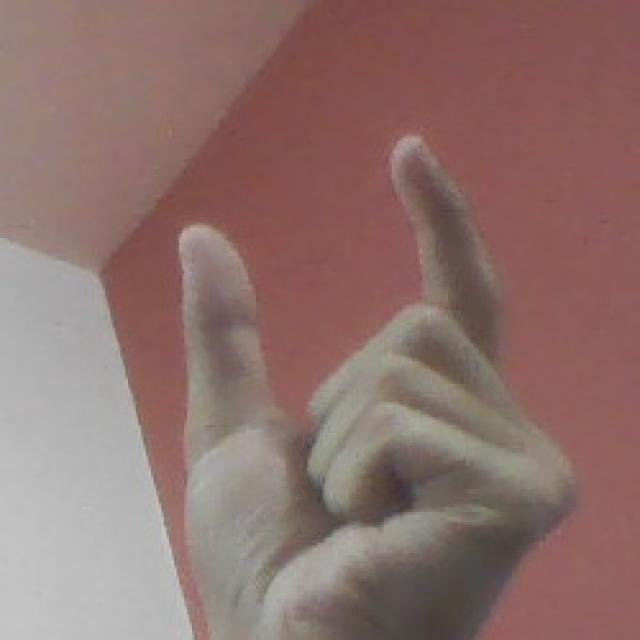Alphabet-U: (170, 135, 598, 630)
